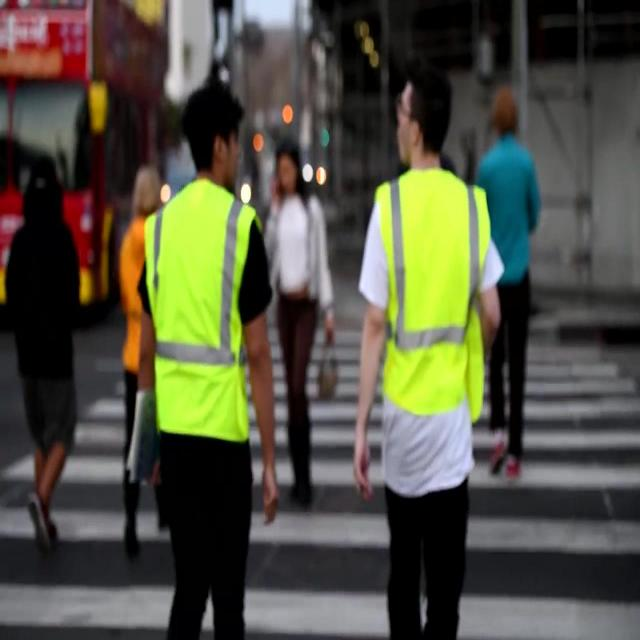Reflective-Jacket: (363, 165, 495, 438), (140, 186, 264, 462)
